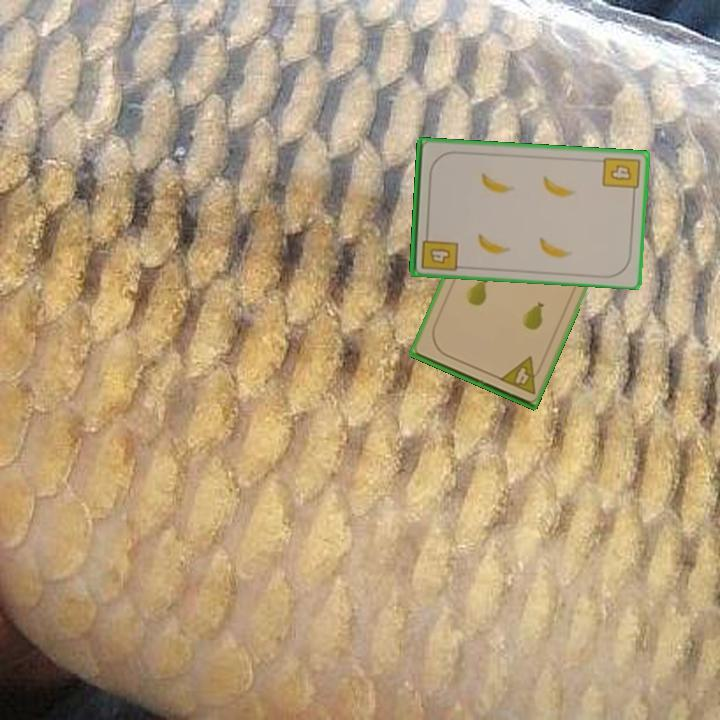4b: (417, 228, 460, 274), (599, 153, 642, 198)
4p: (496, 353, 546, 397)
